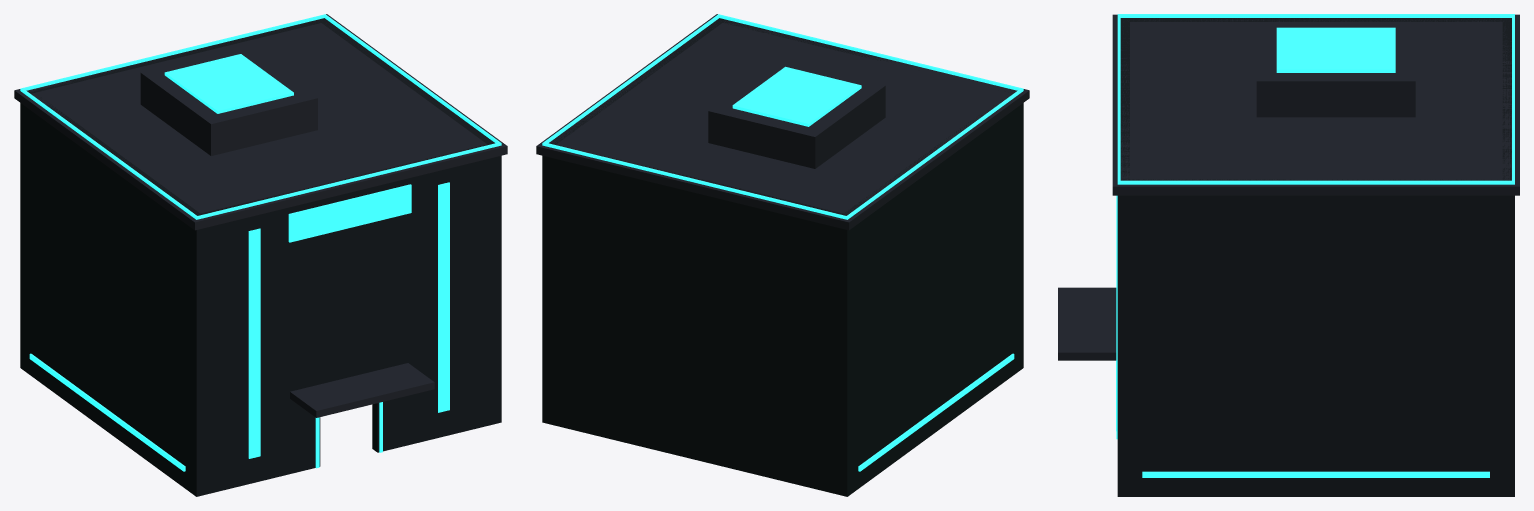
The model's file is shaddai_dist_grid_b1_v01.glb.
3 views of the same model, side by side, from view 1: azimuth 30°, elevation 25°; view 2: azimuth 150°, elevation 25°; view 3: azimuth 270°, elevation 25° (orthographic). The views are drawn at different scales.
Visible parts, largest first — view 1: shaddai_dist_grid_b1; view 2: shaddai_dist_grid_b1; view 3: shaddai_dist_grid_b1.
Part boxes in pixels (bbox=[...]): shaddai_dist_grid_b1: bbox=[14, 14, 507, 496]; shaddai_dist_grid_b1: bbox=[536, 14, 1029, 496]; shaddai_dist_grid_b1: bbox=[1058, 14, 1519, 496].
Size of the model in its own units: 16.4 by 15.63 by 18.6.
